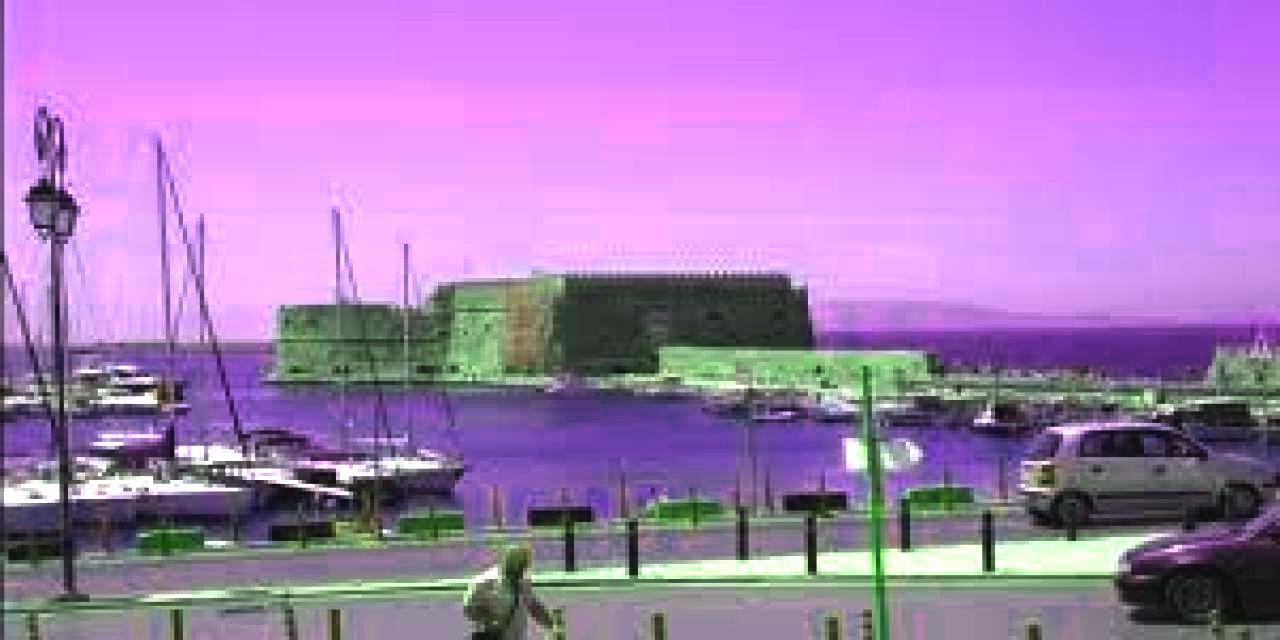Kules: (256, 260, 814, 389)
